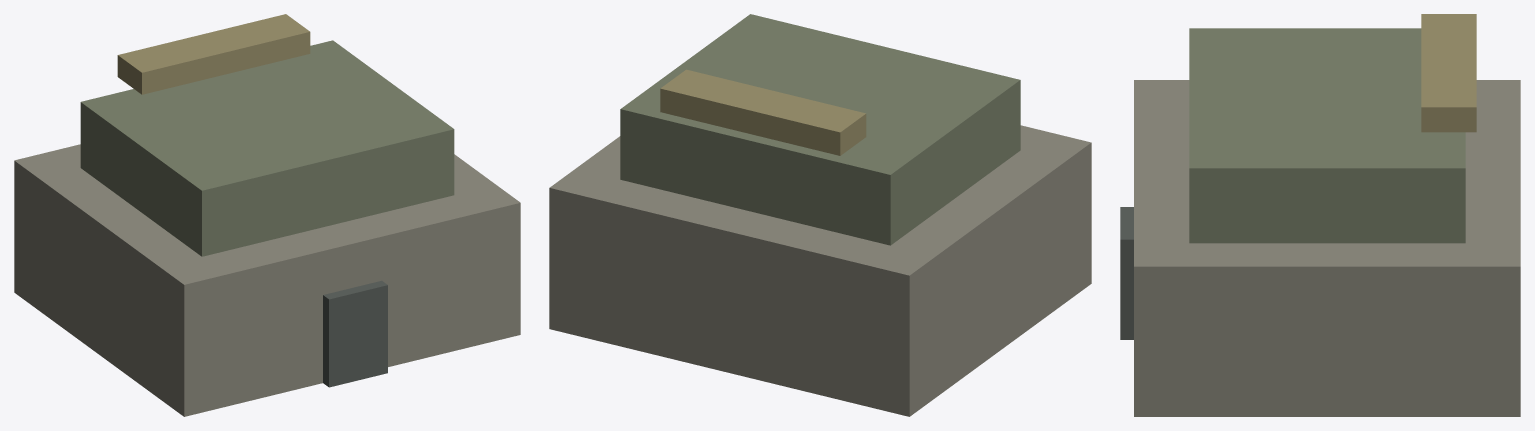
File: barracks.glb
3 renders of one model, left to right at view 1: azimuth 30°, elevation 25°; view 2: azimuth 150°, elevation 25°; view 3: azimuth 270°, elevation 25°, orthographic. The views are drawn at different scales.
Parts seen in each view (by area): view 1: p0, p1, p3, p2; view 2: p0, p1, p3; view 3: p0, p1, p3, p2.
Part boxes in pixels (x1=…): p0: x1=14, y1=144, x2=520, y2=416; p1: x1=80, y1=40, x2=454, y2=256; p3: x1=117, y1=14, x2=310, y2=94; p2: x1=323, y1=280, x2=387, y2=387; p0: x1=549, y1=125, x2=1091, y2=416; p1: x1=620, y1=14, x2=1020, y2=245; p3: x1=660, y1=69, x2=866, y2=155; p0: x1=1134, y1=80, x2=1520, y2=416; p1: x1=1189, y1=28, x2=1465, y2=243; p3: x1=1421, y1=14, x2=1476, y2=132; p2: x1=1120, y1=207, x2=1133, y2=339.
Size of the model in its own units: 8 by 5.25 by 7.25.
